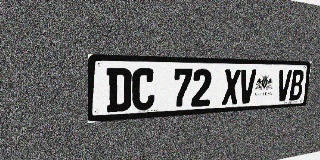2: (191, 69, 212, 107)
7: (171, 68, 193, 108)
B: (289, 70, 305, 101)
C: (132, 68, 156, 111)
D: (106, 68, 132, 112)
V: (238, 69, 256, 104), (276, 70, 292, 101)
X: (222, 69, 241, 105)
